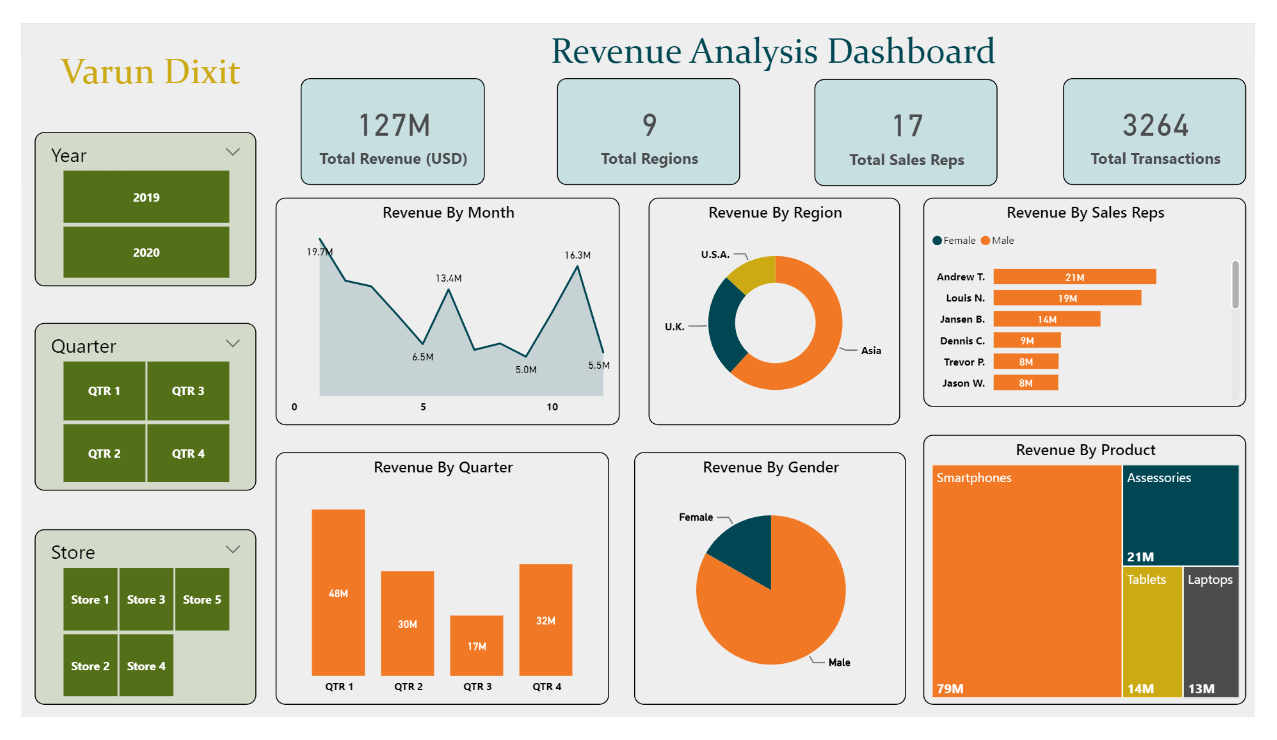

What the dashboard file says about the page in this screenshot:
{"tool":"powerbi","page":{"name":"Page 1","canvas":[1280,720],"ordinal":0},"visuals":[{"type":"areaChart","title":"Revenue By Month","fields":{"Category":["financials.Month"],"Y":["financials.Revenue (USD)"]},"box":[264.3,181,357.1,235.7],"z":0},{"type":"card","fields":{"Values":["financials.Revenue (USD)"]},"box":[290.5,57.1,190.5,110.7],"z":1000},{"type":"card","fields":{"Values":["financials.Country"]},"box":[556,57.1,190.5,110.7],"z":2000},{"type":"card","fields":{"Values":["financials.Sales Reps"]},"box":[822.6,58.3,190.5,110.7],"z":3000},{"type":"card","fields":{"Values":["financials.Products"]},"box":[1081,57.1,190.5,110.7],"z":4000},{"type":"slicer","fields":{"Values":["financials.Years"]},"box":[14.3,113.1,229.8,159.5],"z":5000},{"type":"slicer","fields":{"Values":["financials.Quarter"]},"box":[14.3,310.7,229.8,173.8],"z":6000},{"type":"slicer","fields":{"Values":["financials.Rank"]},"box":[14.3,525,229.8,182.1],"z":7000},{"type":"donutChart","title":"Revenue By Region","fields":{"Y":["financials.Revenue (USD)"],"Category":["financials.Region"]},"box":[651.2,181,260.7,235.7],"z":8000},{"type":"treemap","title":"Revenue By Product","fields":{"Group":["financials.Products"],"Values":["financials.Revenue (USD)"]},"box":[935.7,427.4,335.7,279.8],"z":9000},{"type":"lineClusteredColumnComboChart","title":"Revenue By Quarter","fields":{"Category":["financials.Quarter"],"Y":["financials.Revenue (USD)"]},"box":[264.3,445.2,345.2,261.9],"z":10000},{"type":"pieChart","title":"Revenue By Gender","fields":{"Y":["financials.Revenue (USD)"],"Category":["financials.Gender"]},"box":[635.7,445.2,282.1,261.9],"z":11000},{"type":"barChart","title":"Revenue By Sales Reps","fields":{"Category":["financials.Sales Reps"],"Y":["financials.Revenue (USD)"],"Series":["financials.Gender"]},"box":[935.7,181,335.7,216.7],"z":12000},{"type":"textbox","box":[14.3,21.4,240.5,70.2],"z":13000},{"type":"textbox","box":[290.5,0,981,70.2],"z":14000}]}

Visuals, with their boxes in screenshot pixels (x1, y1, x2, y2), scaled from the page's 1280x720 canvas onto the 1277x740 screenshot:
"Revenue By Month" areaChart: 264:186:620:428
card - financials.Revenue (USD): 290:59:480:172
card - financials.Country: 555:59:745:172
card - financials.Sales Reps: 821:60:1011:174
card - financials.Products: 1078:59:1269:172
slicer - financials.Years: 14:116:244:280
slicer - financials.Quarter: 14:319:244:498
slicer - financials.Rank: 14:540:244:727
"Revenue By Region" donutChart: 650:186:910:428
"Revenue By Product" treemap: 934:439:1268:727
"Revenue By Quarter" lineClusteredColumnComboChart: 264:458:608:727
"Revenue By Gender" pieChart: 634:458:916:727
"Revenue By Sales Reps" barChart: 934:186:1268:409
textbox: 14:22:254:94
textbox: 290:0:1269:72
